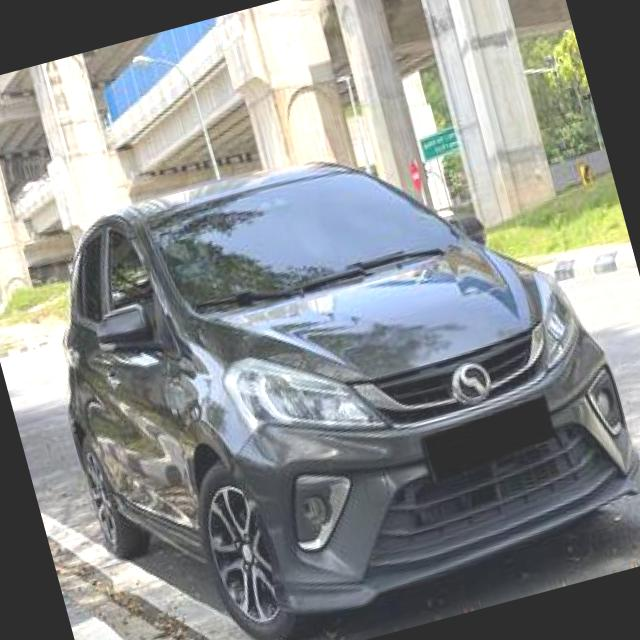PeroduaMyvi: (15, 85, 640, 640)
